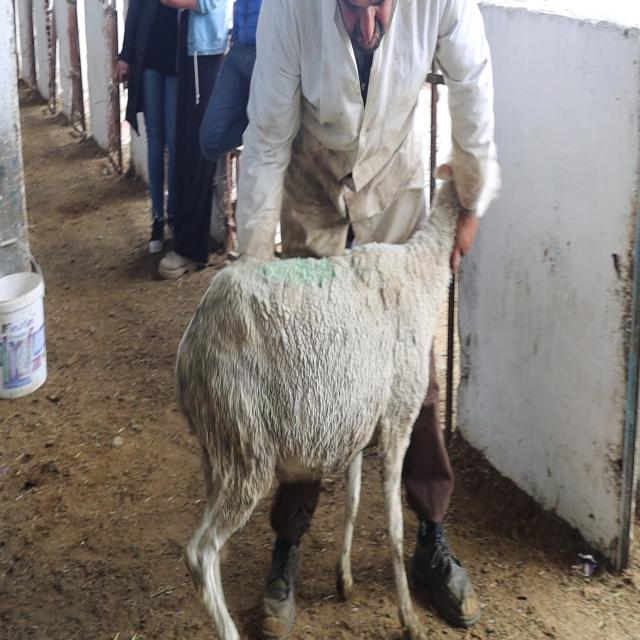Score_1: (174, 179, 459, 639)
